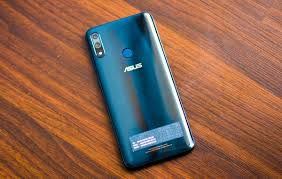asus: (79, 9, 198, 170)
